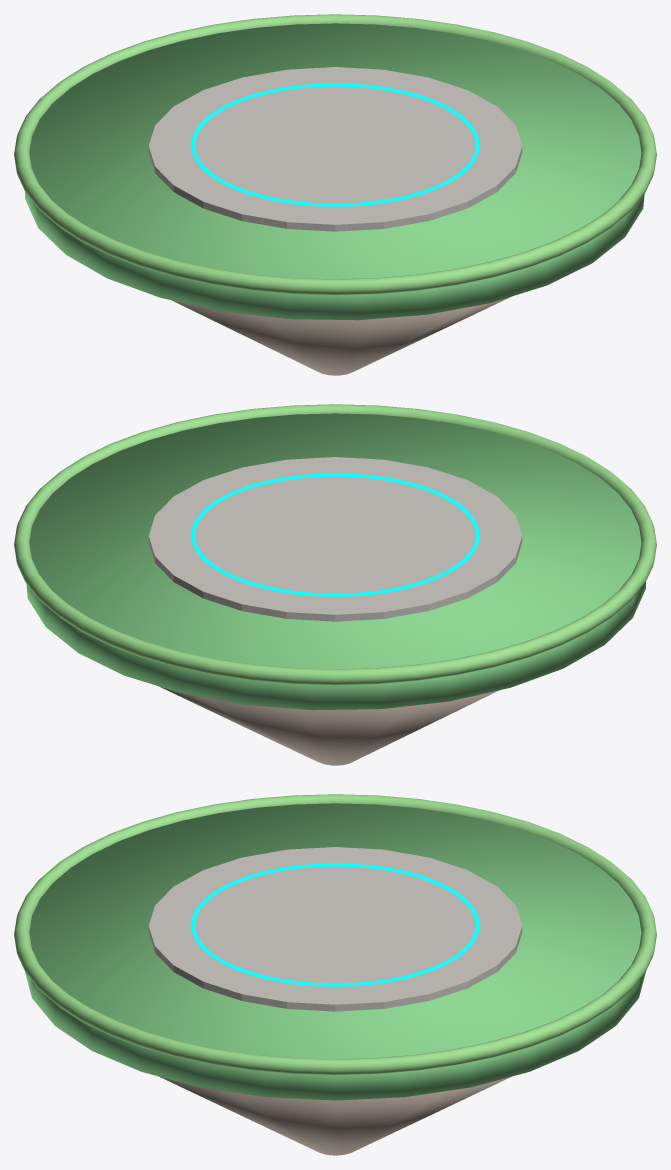
The model's file is island_sanctuary.glb.
3 renders of one model, top to bottom at view 1: azimuth 30°, elevation 25°; view 2: azimuth 150°, elevation 25°; view 3: azimuth 270°, elevation 25°, orthographic.
Visible parts, largest first — view 1: SanctuaryGrass, AncientDais, SanctuaryGrassRim, SanctuaryCliff, RuneRing; view 2: SanctuaryGrass, AncientDais, SanctuaryGrassRim, SanctuaryCliff, RuneRing; view 3: SanctuaryGrass, AncientDais, SanctuaryGrassRim, SanctuaryCliff, RuneRing.
Boxes of the visible parts, bbox=[...] form: SanctuaryGrass: bbox=[25, 23, 644, 320]; AncientDais: bbox=[148, 67, 522, 231]; SanctuaryGrassRim: bbox=[14, 14, 656, 295]; SanctuaryCliff: bbox=[172, 297, 510, 375]; RuneRing: bbox=[191, 83, 479, 206]; SanctuaryGrass: bbox=[26, 413, 645, 710]; AncientDais: bbox=[148, 457, 522, 621]; SanctuaryGrassRim: bbox=[14, 404, 656, 685]; SanctuaryCliff: bbox=[160, 687, 498, 765]; RuneRing: bbox=[191, 473, 479, 596]; SanctuaryGrass: bbox=[25, 803, 645, 1100]; AncientDais: bbox=[148, 847, 522, 1011]; SanctuaryGrassRim: bbox=[14, 794, 656, 1075]; SanctuaryCliff: bbox=[159, 1076, 511, 1155]; RuneRing: bbox=[191, 863, 479, 986].
Bounding box in the file's own units: 14.46 × 5.53 × 14.46.
